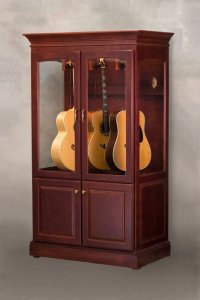guitar: (106, 62, 154, 170), (49, 60, 85, 169), (88, 57, 113, 173)
